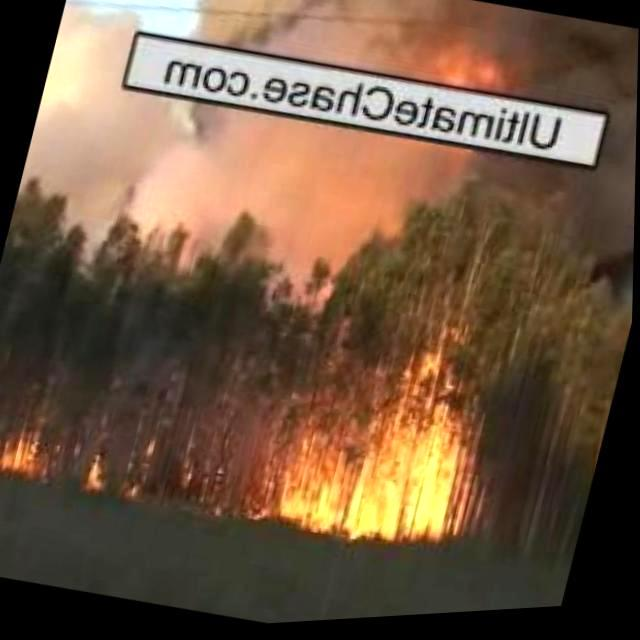fire: (248, 318, 510, 572), (79, 413, 169, 511), (1, 408, 52, 484)
